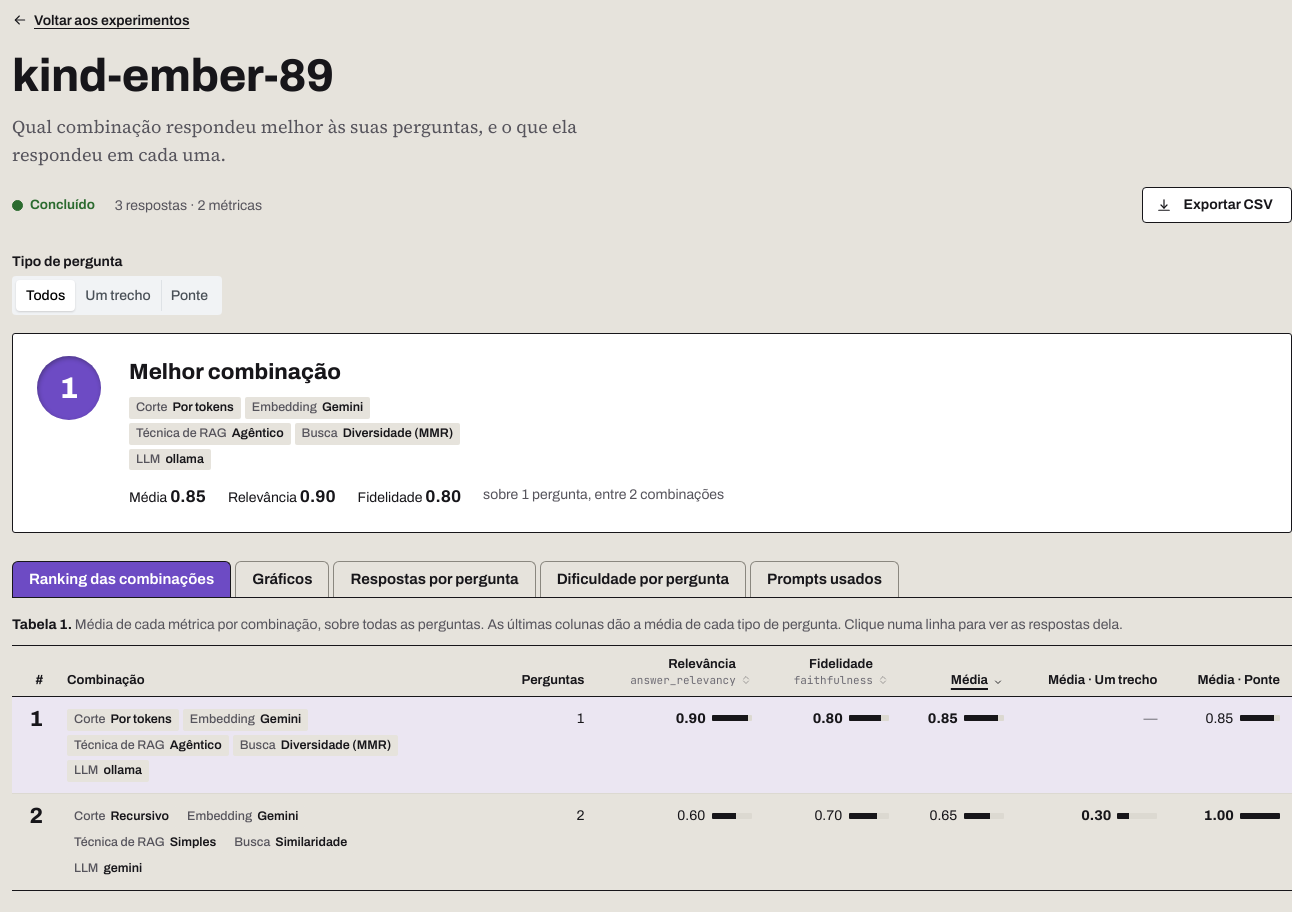
Test: ExperimentDetailPage › filter by Tipo de pergunta › narrows the ranking and the answers to the chosen type
The image size is (1292, 912).
Expected: the element "Melhor combinação" shows "Por tokens", 172,400 -> 234,414
Click the radio button labelled "Ponte" at [189, 296], box 171,288 -> 208,303
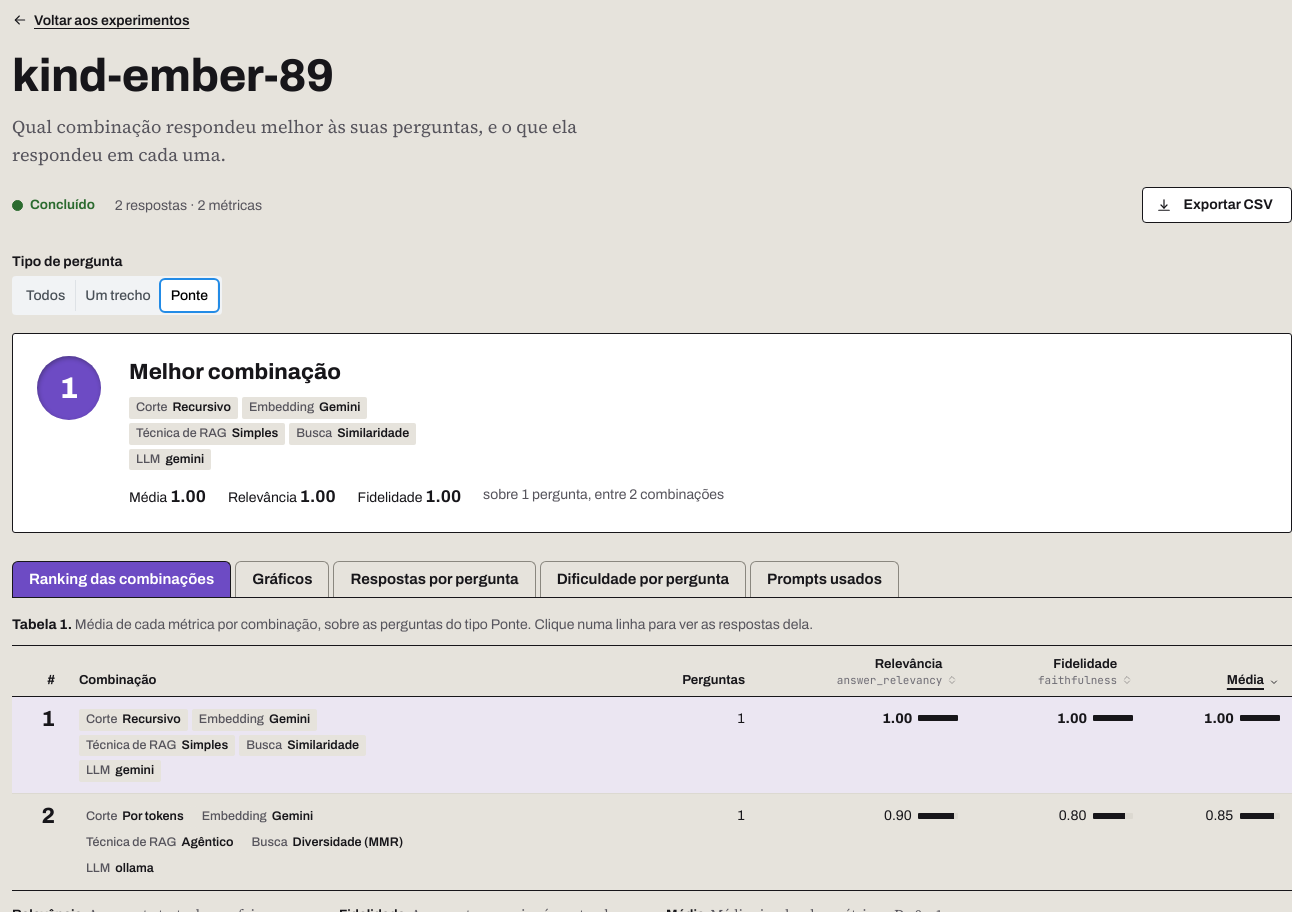
Result: the element "Melhor combinação" shows "Recursivo" at 172,400 -> 231,414
Result: the element "Melhor combinação" shows "Média 1.00" at 12,333 -> 1291,533
Click the tab "Respostas por pergunta" at [434, 579], box 333,561 -> 536,597
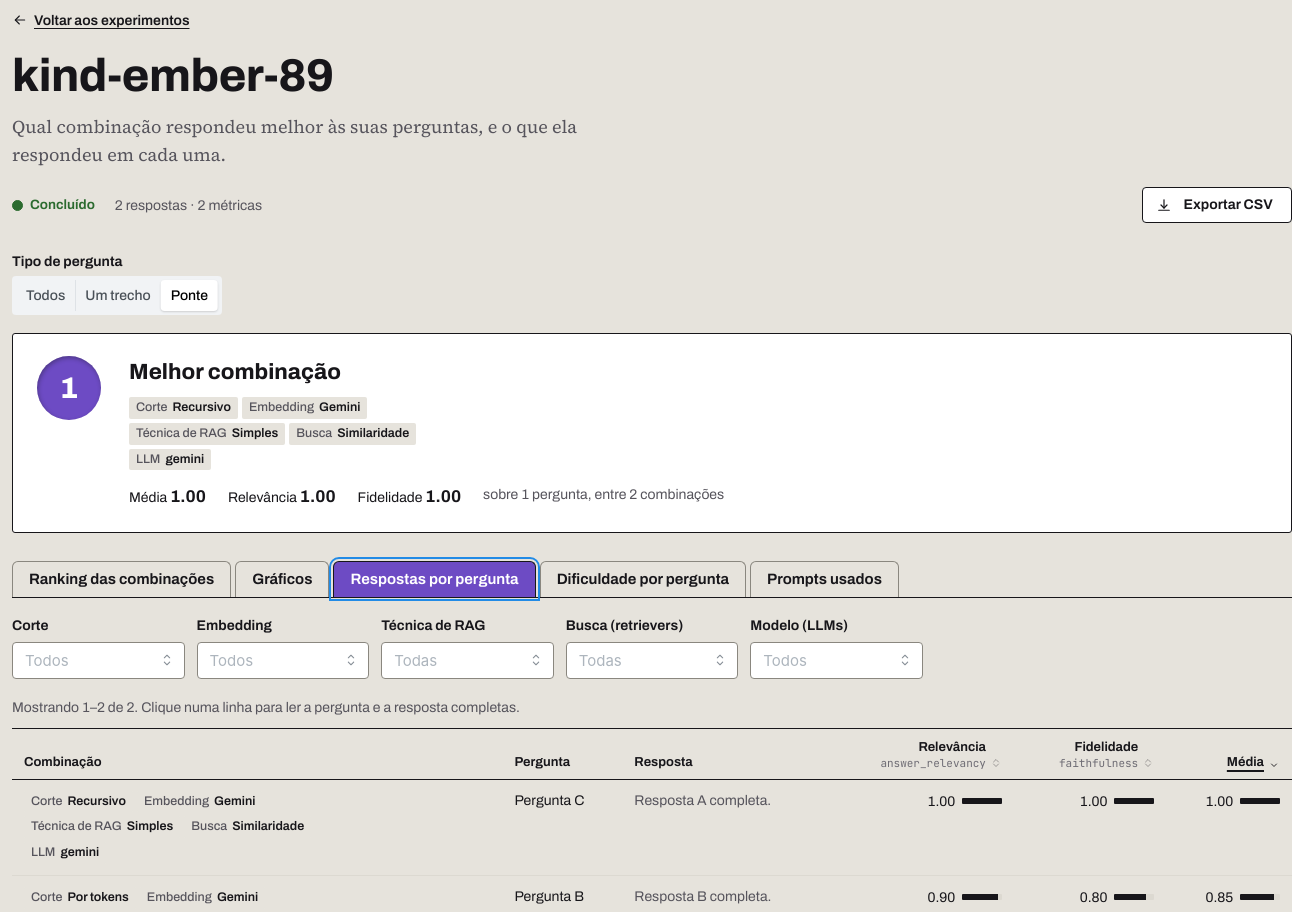
Result: the button "Pergunta C" is shown at 514,791 -> 584,810
Result: the button "Pergunta B" is shown at 514,887 -> 584,906
